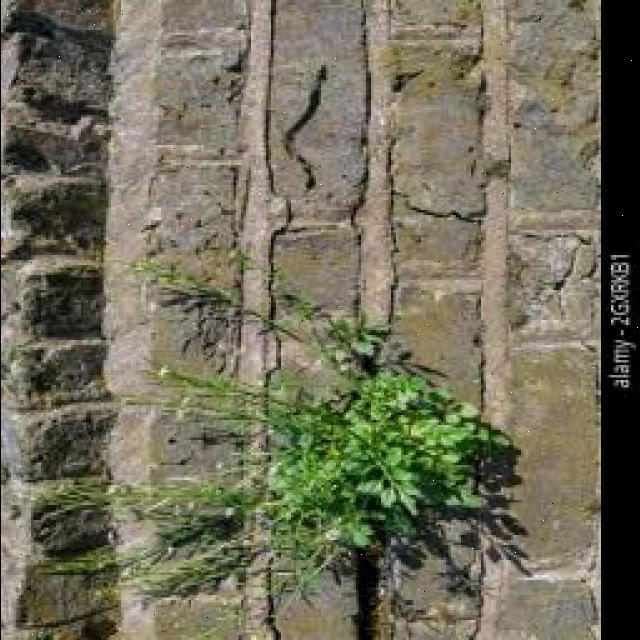vegetation: (135, 241, 526, 640)
